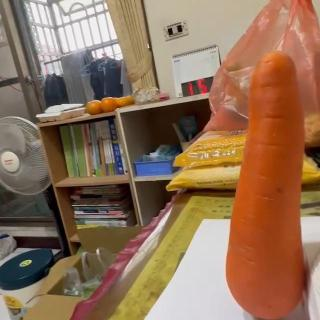carrot: (223, 50, 305, 320)
